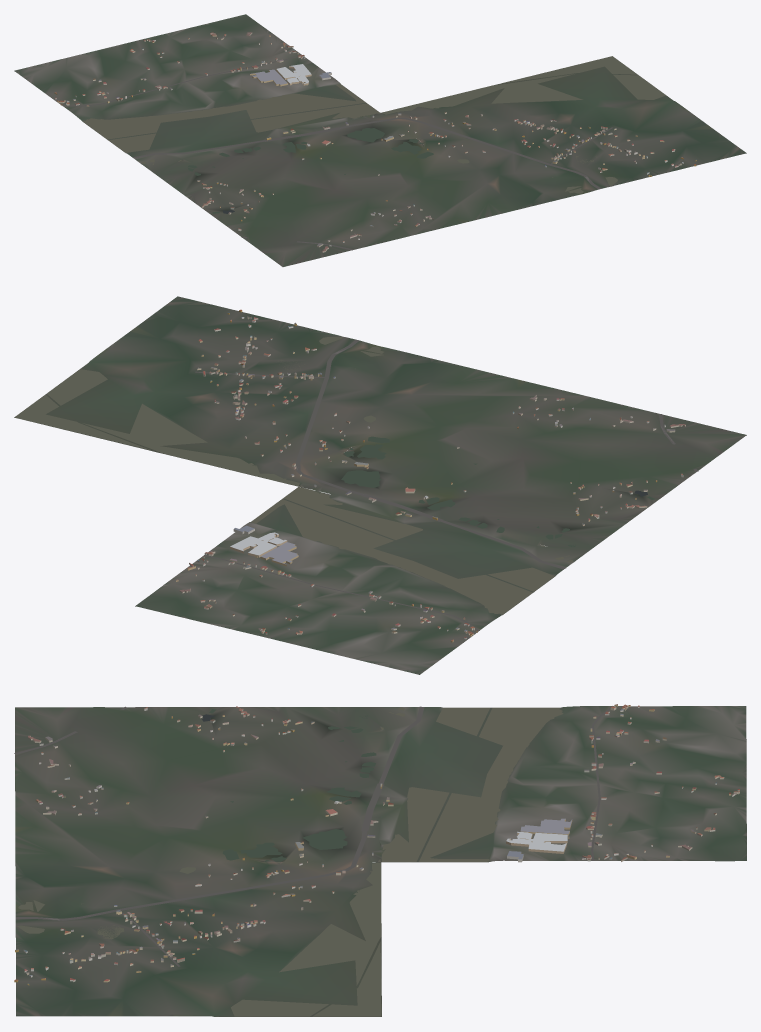
The picture shows the model from 3 angles, top to bottom: view 1: azimuth 30°, elevation 25°; view 2: azimuth 150°, elevation 25°; view 3: azimuth 270°, elevation 25°; orthographic projection. The views are drawn at different scales.
Visible parts, largest first — view 1: ground, water, buildings, roads; view 2: ground, water, buildings, roads; view 3: ground, water, buildings, roads.
Part boxes in pixels (left/top/right/bottom): ground: left=14, top=14, right=746, bottom=266; water: left=83, top=56, right=671, bottom=213; buildings: left=54, top=32, right=696, bottom=252; roads: left=63, top=56, right=612, bottom=250; ground: left=14, top=296, right=746, bottom=674; water: left=14, top=337, right=654, bottom=614; buildings: left=176, top=309, right=685, bottom=642; roads: left=195, top=339, right=698, bottom=631; ground: left=15, top=706, right=746, bottom=1016; water: left=17, top=707, right=563, bottom=1016; buildings: left=14, top=704, right=739, bottom=985; roads: left=14, top=706, right=613, bottom=966.
Bounding box in the file's own units: 2813 × 29.7 × 2809.
